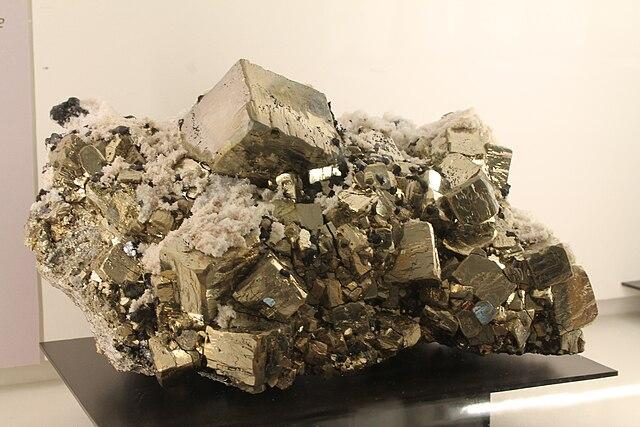pyrite: (19, 50, 606, 398)
